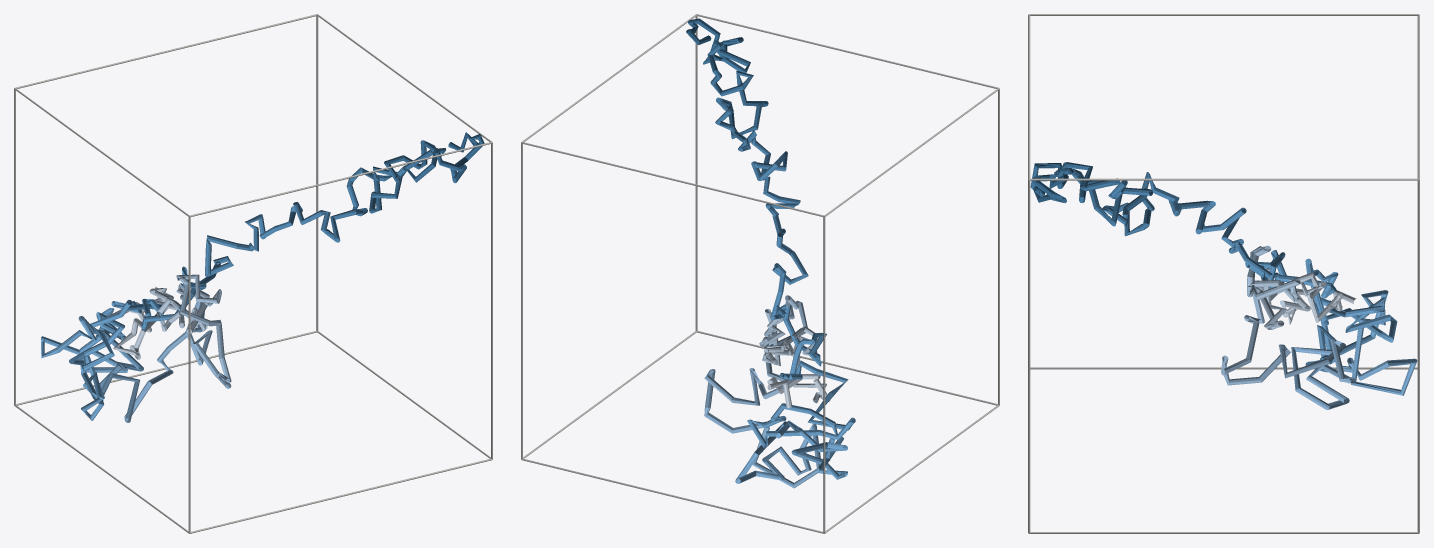
The picture shows the model from 3 angles, left to right: view 1: azimuth 30°, elevation 25°; view 2: azimuth 150°, elevation 25°; view 3: azimuth 270°, elevation 25°; orthographic projection. The views are drawn at different scales.
Visible parts, largest first — view 1: geometry_0, geometry_1; view 2: geometry_0, geometry_1; view 3: geometry_0, geometry_1.
Boxes of the visible parts, x1,y1,x2,y2 form: geometry_0: (41,132,484,422); geometry_1: (14,14,492,533); geometry_0: (686,18,855,488); geometry_1: (521,14,999,533); geometry_0: (1030,162,1417,409); geometry_1: (1028,14,1419,533).
Bounding box in the file's own units: 0.3016 × 0.3049 × 0.3016.
